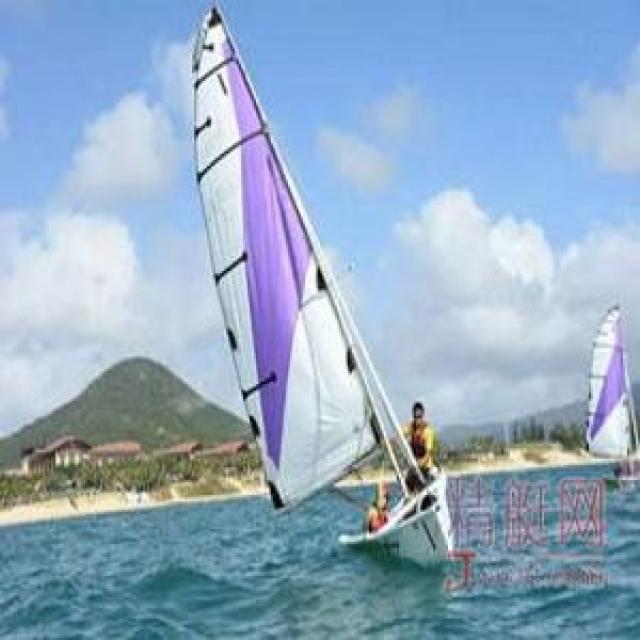sailboat: (185, 1, 454, 568), (581, 299, 640, 490)
